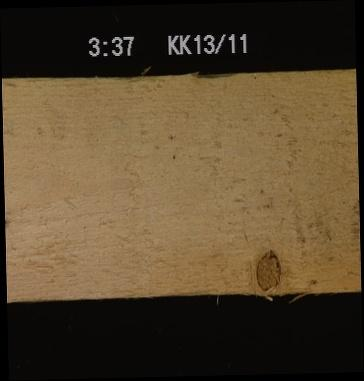dry_knot: (253, 248, 280, 291)
